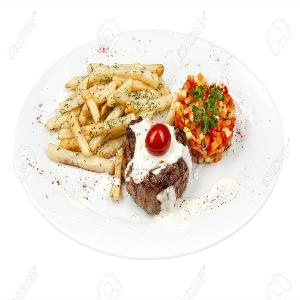fries_350cal: (41, 57, 168, 120)
